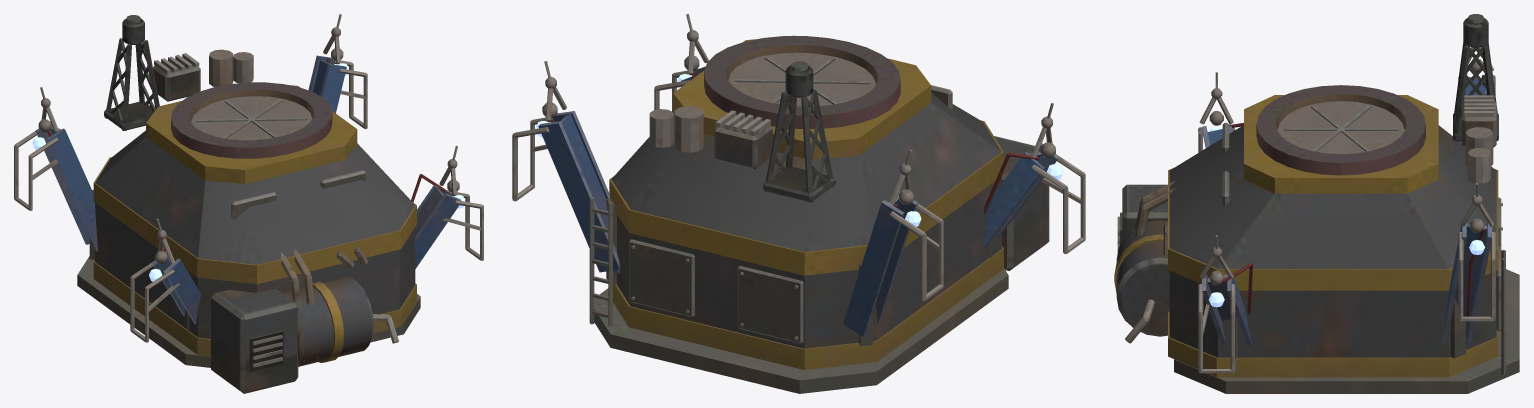
The model's file is roboport.glb.
3 views of the same model, side by side, from view 1: azimuth 30°, elevation 25°; view 2: azimuth 150°, elevation 25°; view 3: azimuth 270°, elevation 25° (orthographic). The views are drawn at different scales.
Visible parts, largest first — view 1: body, anim_door_n, anim_door_s; view 2: body, anim_door_s, anim_door_n, anim_charge; view 3: body, anim_door_s, anim_door_n, anim_charge.
Boxes of the visible parts, bbox=[...] form: body: bbox=[14, 14, 483, 393]; anim_door_n: bbox=[191, 96, 304, 132]; anim_door_s: bbox=[204, 107, 311, 140]; body: bbox=[512, 14, 1085, 393]; anim_door_s: bbox=[737, 52, 875, 96]; anim_door_n: bbox=[728, 66, 860, 106]; anim_charge: bbox=[535, 74, 1063, 226]; body: bbox=[1114, 14, 1519, 393]; anim_door_s: bbox=[1277, 101, 1341, 154]; anim_door_n: bbox=[1340, 101, 1404, 154]; anim_charge: bbox=[1208, 75, 1484, 307].
Bounding box in the file's own units: 3.8 × 2.69 × 3.52.
2 materials, 2 textured.
